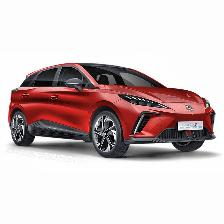EV: (10, 62, 217, 158)
